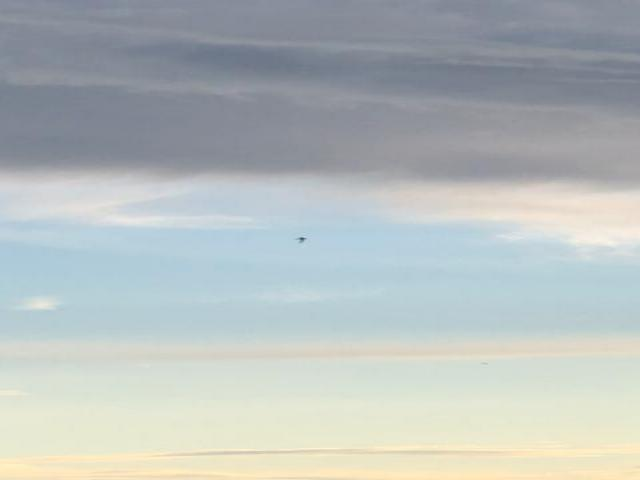bird: (273, 230, 336, 253)
